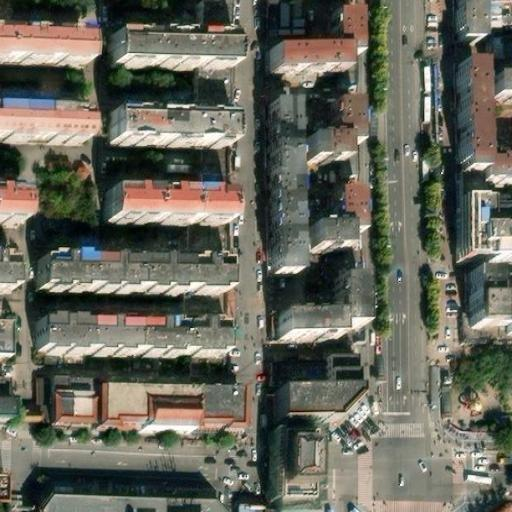building: (36, 249, 221, 293), (34, 310, 219, 354), (96, 390, 242, 439), (273, 116, 300, 292), (108, 183, 229, 215), (457, 215, 512, 280), (0, 29, 90, 66), (0, 106, 91, 142), (111, 113, 229, 137), (456, 59, 480, 175), (272, 388, 352, 422), (111, 36, 229, 59), (30, 498, 217, 512), (263, 46, 336, 71), (457, 183, 512, 215), (198, 59, 229, 113), (52, 401, 97, 436), (469, 284, 494, 345), (198, 137, 229, 183), (275, 313, 335, 336), (453, 0, 480, 44), (278, 472, 307, 512), (335, 288, 359, 336), (263, 0, 302, 28), (336, 30, 361, 71), (322, 355, 352, 388), (308, 230, 344, 255), (307, 135, 344, 159), (475, 159, 512, 183), (0, 249, 21, 290), (328, 195, 352, 220), (326, 109, 350, 134), (490, 76, 512, 101), (0, 317, 14, 356), (494, 319, 512, 345)
